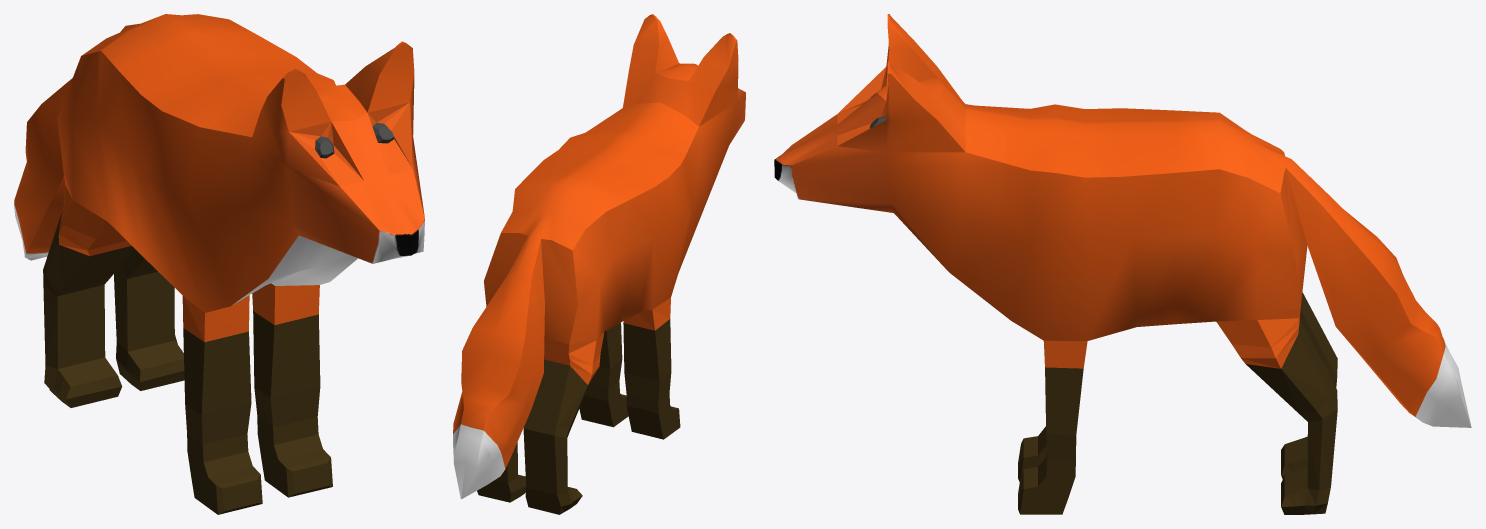
Rendered from LO_Fox_V1.fbx.
The picture shows the model from 3 angles, left to right: view 1: azimuth 30°, elevation 25°; view 2: azimuth 150°, elevation 25°; view 3: azimuth 270°, elevation 25°; orthographic projection. The views are drawn at different scales.
Parts seen in each view (by area): view 1: Box002; view 2: Box002; view 3: Box002.
Boxes of the visible parts, x1=… form: Box002: x1=14, y1=14, x2=424, y2=514; Box002: x1=453, y1=14, x2=745, y2=514; Box002: x1=774, y1=14, x2=1471, y2=514.
Bounding box in the file's own units: 42.15 × 112 × 157.
